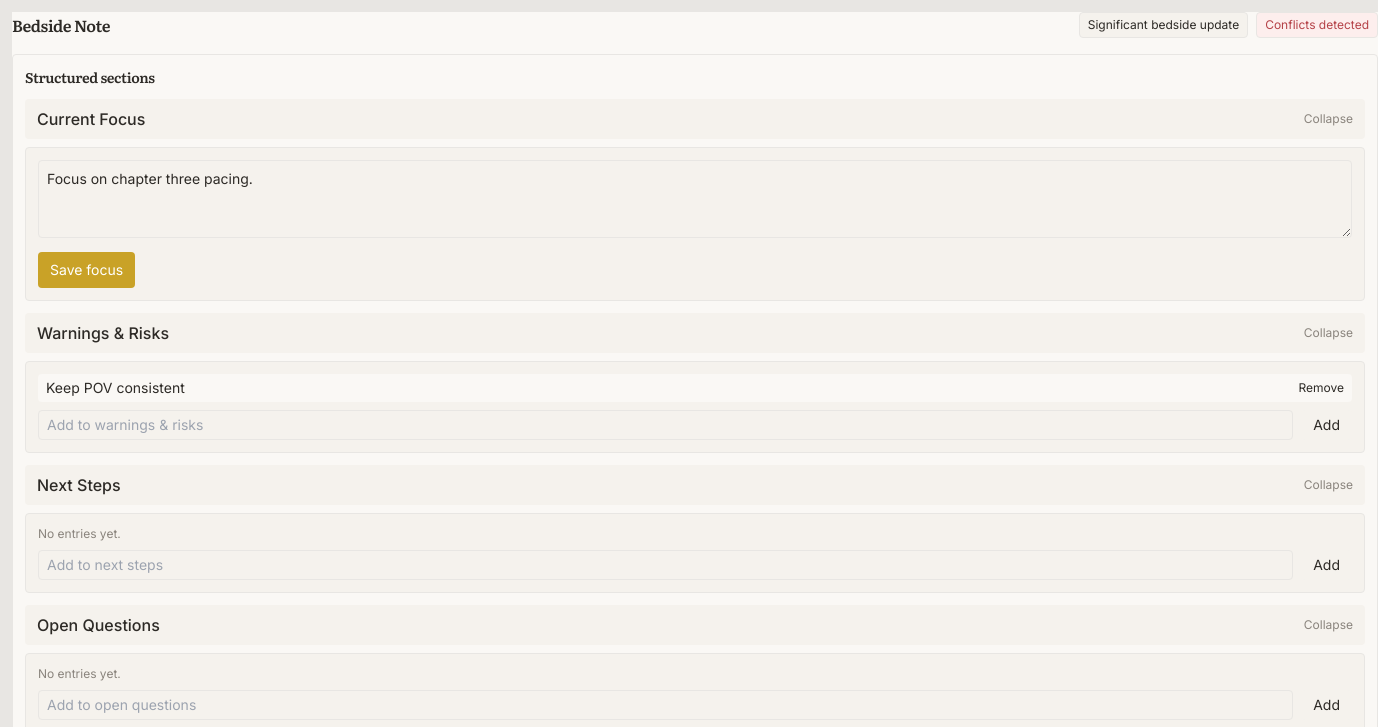
Scenario: BedsideNotePanel › supports manual list edits and refreshes history
This screenshot has width=1378, height=727.
Type "Add new hook" into the field with placeholder "Add to warnings & risks" at (666, 425), box [38,410,1293,440]
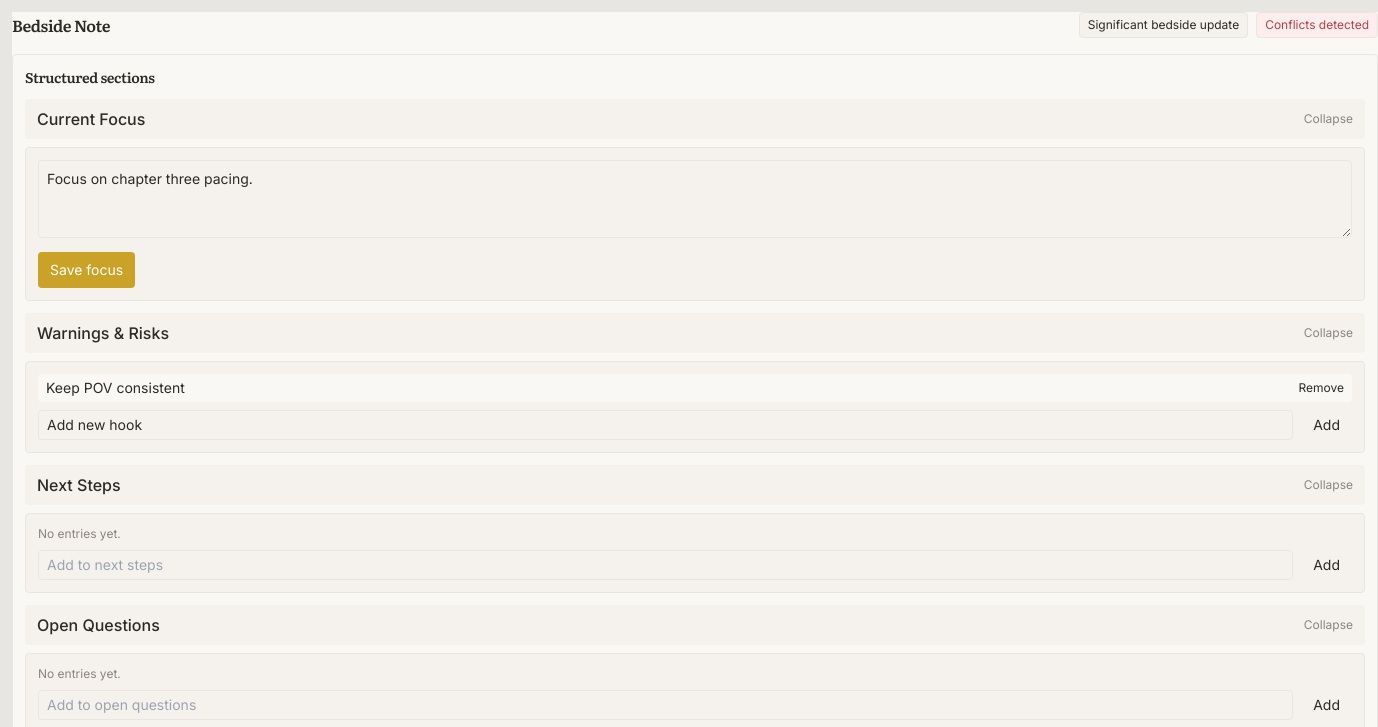
Click the 1st button "Add" at (1327, 425), box [1301,410,1352,440]
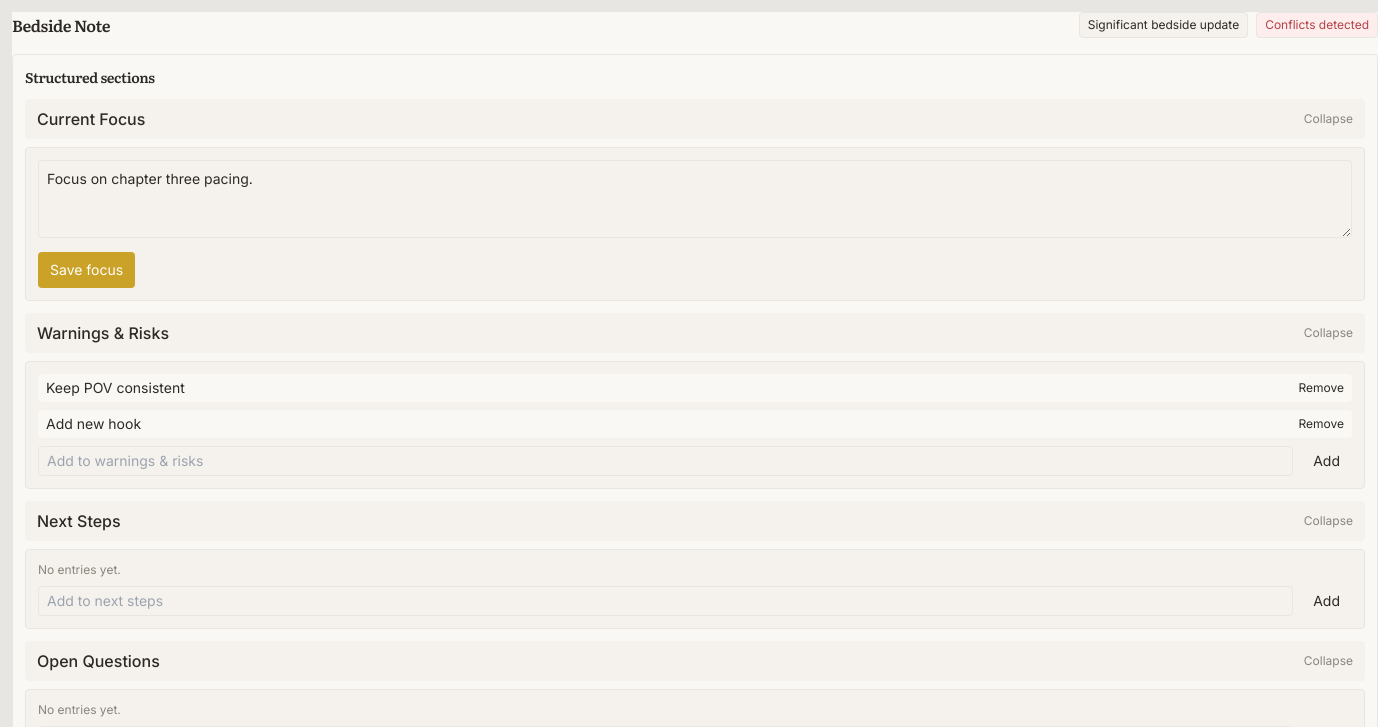
Now the text "Add new hook" is shown, box [46,414,141,434]
